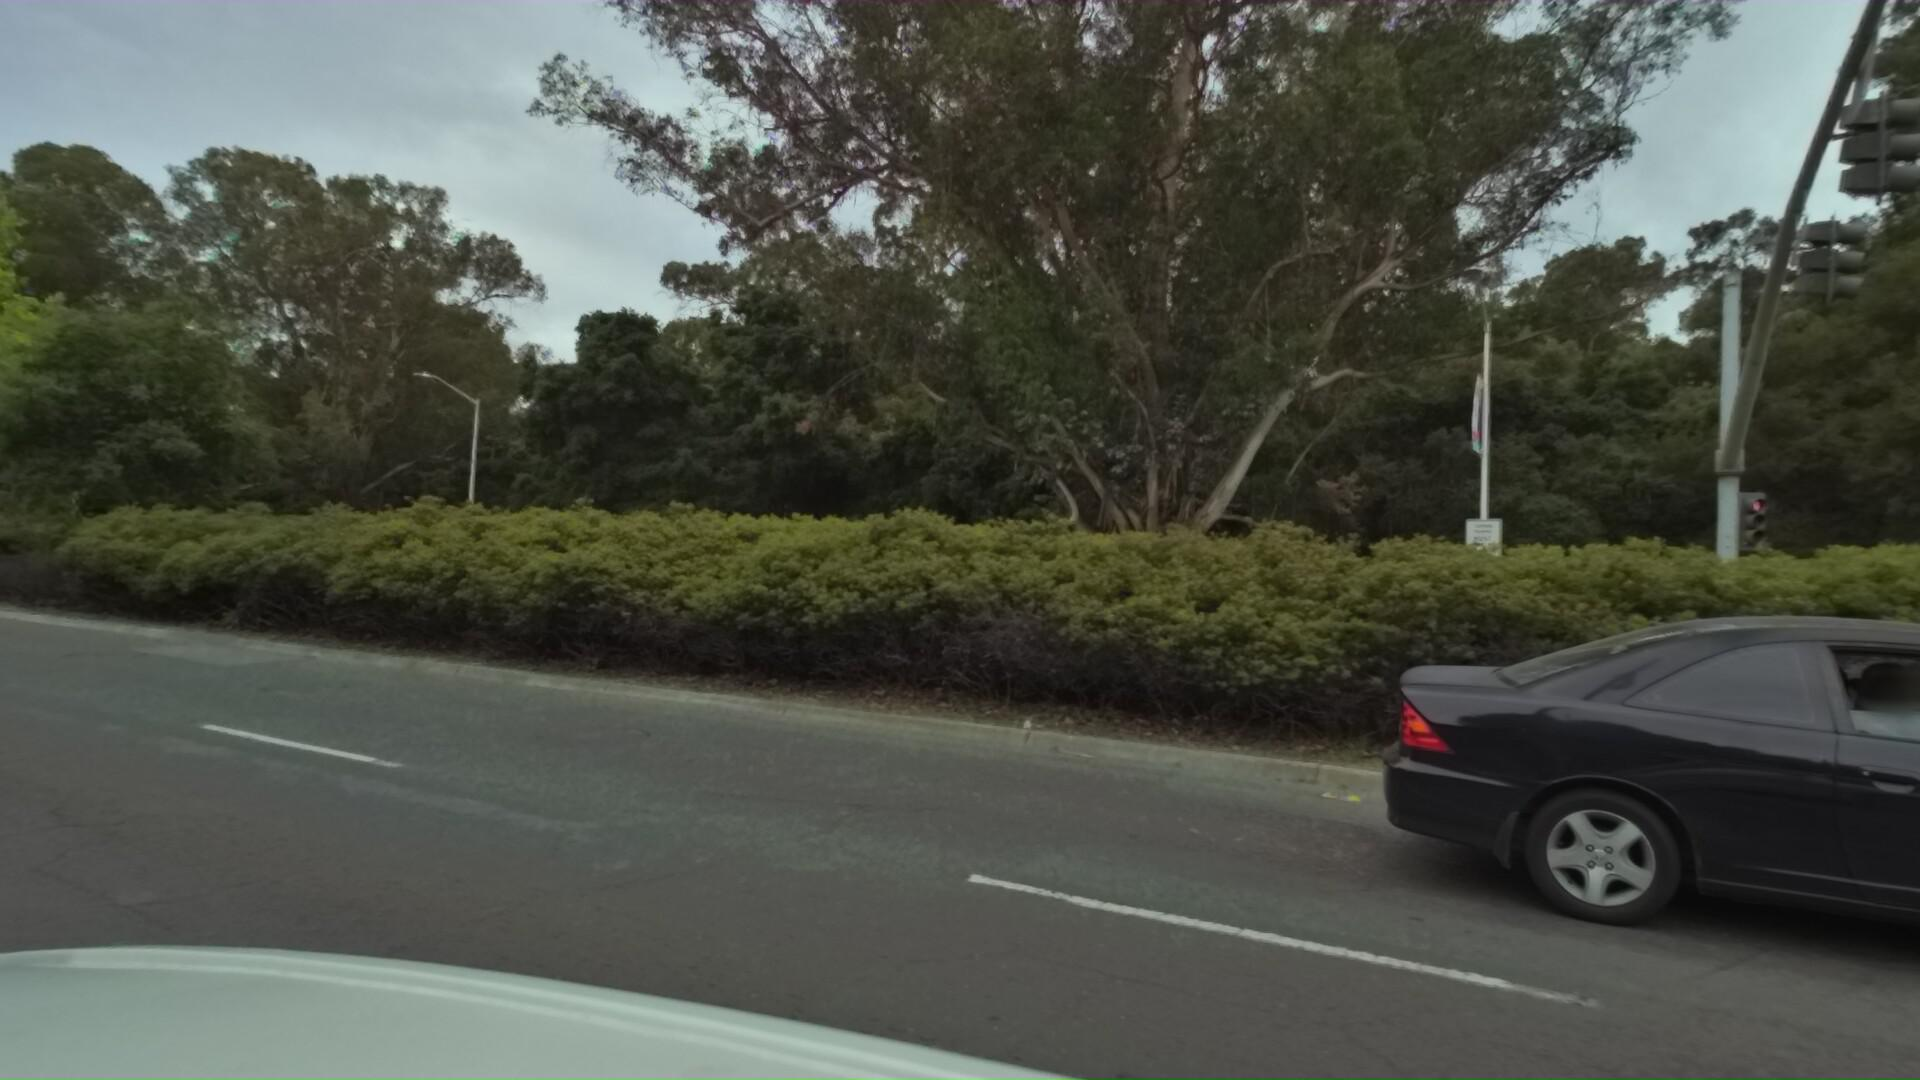car: (1386, 568, 1920, 1080)
